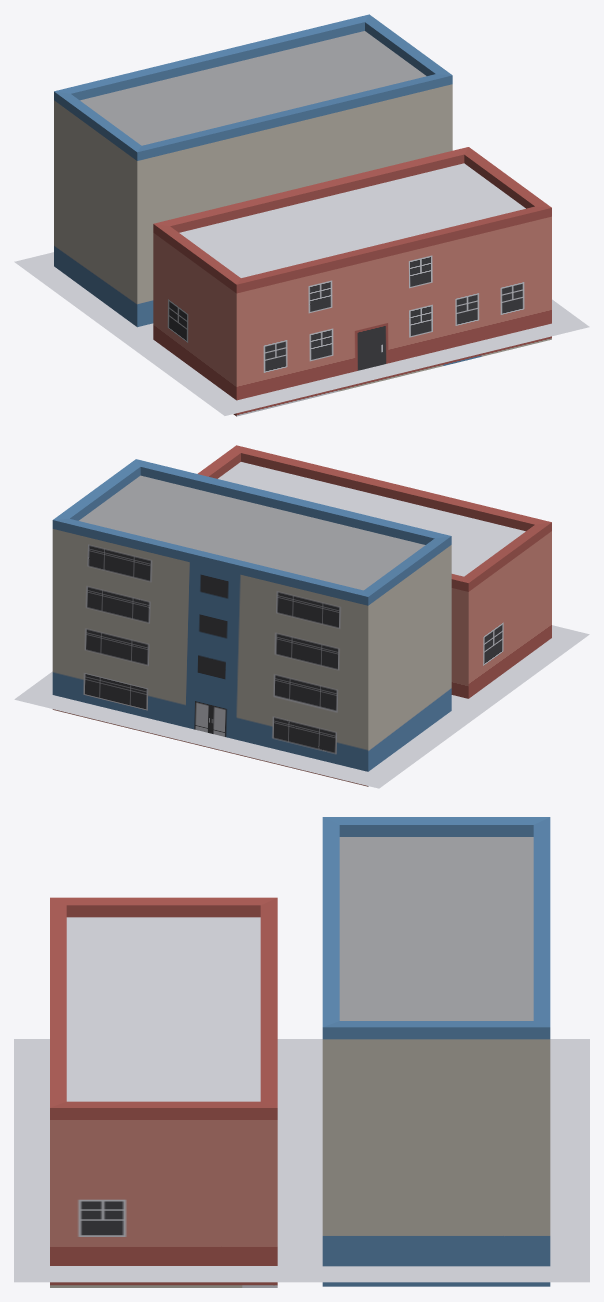
Rendered from 2immeubles_1.glb.
3 renders of one model, top to bottom at view 1: azimuth 30°, elevation 25°; view 2: azimuth 150°, elevation 25°; view 3: azimuth 270°, elevation 25°, orthographic. The views are drawn at different scales.
Parts seen in each view (by area): view 1: coucou; view 2: coucou; view 3: coucou.
Boxes of the visible parts, x1=… form: coucou: x1=14, y1=14, x2=589, y2=416; coucou: x1=14, y1=445, x2=589, y2=788; coucou: x1=14, y1=817, x2=589, y2=1287.
Size of the model in its own units: 15 by 7.5 by 15.
1 material, 1 textured.
